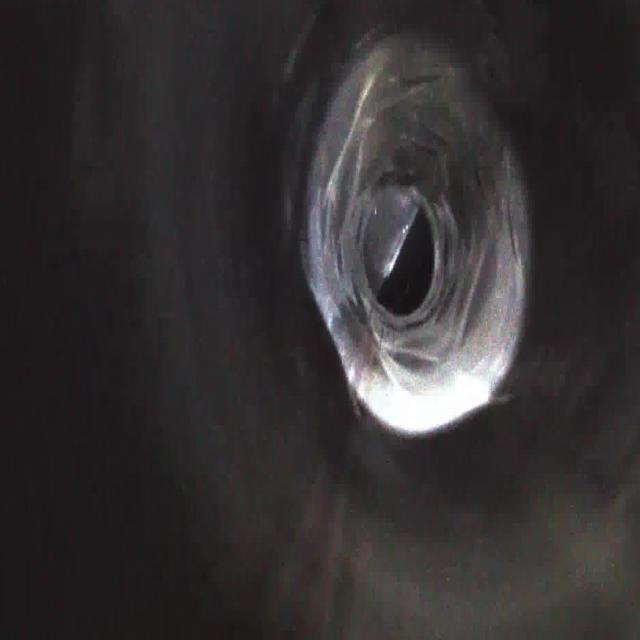crack: (308, 162, 360, 290), (374, 334, 454, 404), (381, 44, 453, 109), (490, 169, 529, 281), (386, 120, 458, 168)
